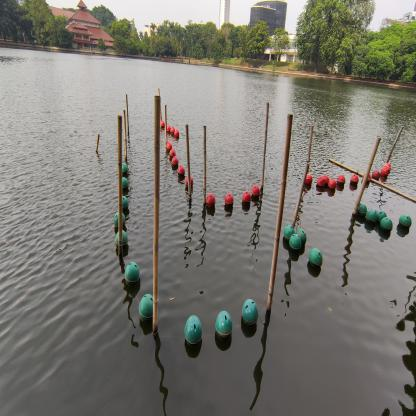green_buoy: (184, 314, 203, 349), (215, 310, 233, 344), (241, 297, 259, 329), (138, 293, 154, 324), (124, 261, 140, 287), (308, 247, 323, 272), (288, 233, 302, 254), (113, 210, 126, 230), (115, 230, 128, 250), (295, 228, 307, 248), (398, 213, 412, 230), (283, 224, 295, 242), (380, 217, 393, 233), (365, 209, 377, 225), (377, 210, 387, 224), (122, 194, 129, 212), (358, 203, 367, 217), (122, 176, 129, 192), (122, 162, 128, 176)
red_buoy: (224, 192, 234, 209), (206, 192, 216, 208), (242, 190, 251, 206), (251, 184, 260, 198), (336, 174, 346, 186), (316, 176, 326, 188), (383, 162, 392, 174), (350, 174, 359, 186), (185, 176, 194, 188), (322, 174, 330, 187), (328, 178, 336, 190), (177, 165, 185, 177), (171, 156, 179, 168), (380, 167, 388, 178), (372, 170, 380, 181), (305, 174, 313, 185), (169, 148, 176, 160), (362, 173, 371, 182), (166, 142, 172, 152), (174, 129, 180, 138), (170, 126, 175, 135), (160, 120, 165, 128), (167, 125, 171, 132)
